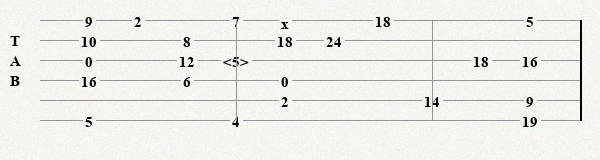0: (85, 53, 97, 67), (281, 73, 293, 87)
10: (81, 33, 101, 47)
12: (179, 53, 199, 67)
14: (424, 93, 444, 107)
16: (81, 73, 101, 87), (522, 53, 542, 67)
18: (277, 33, 297, 47), (375, 13, 395, 27), (473, 53, 493, 67)
19: (522, 113, 542, 127)
2: (134, 13, 146, 27), (281, 93, 293, 107)
24: (326, 33, 346, 47)
4: (232, 113, 244, 127)
5: (85, 113, 97, 127), (526, 13, 538, 27)
6: (183, 73, 195, 87)
7: (232, 13, 244, 27)
8: (183, 33, 195, 47)
9: (85, 13, 97, 27), (526, 93, 538, 107)
harmonic: (223, 53, 253, 67)
x: (281, 15, 293, 26)
